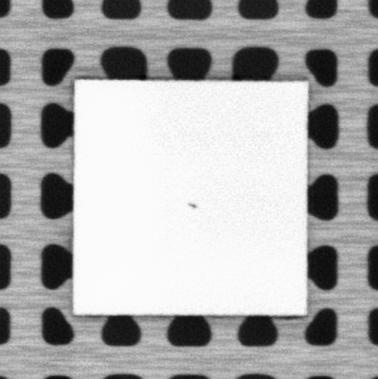DIE_INK: (185, 200, 198, 210)
